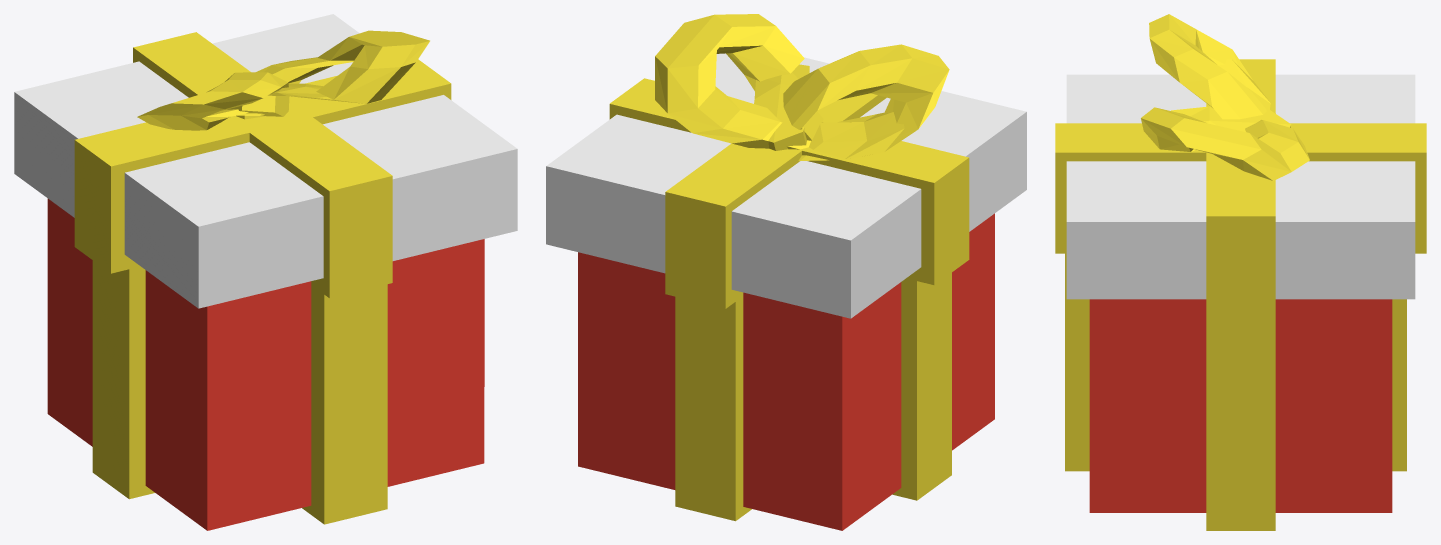
The model's file is present-2.glb.
3 views of the same model, side by side, from view 1: azimuth 30°, elevation 25°; view 2: azimuth 150°, elevation 25°; view 3: azimuth 270°, elevation 25° (orthographic). The views are drawn at different scales.
Parts seen in each view (by area): view 1: Node.180; view 2: Node.180; view 3: Node.180.
Boxes of the visible parts, left/top/right/bottom form: Node.180: left=14, top=14, right=517, bottom=530; Node.180: left=546, top=14, right=1026, bottom=530; Node.180: left=1055, top=14, right=1426, bottom=530.
Size of the model in its own units: 0.8102 by 0.9304 by 0.8102.
